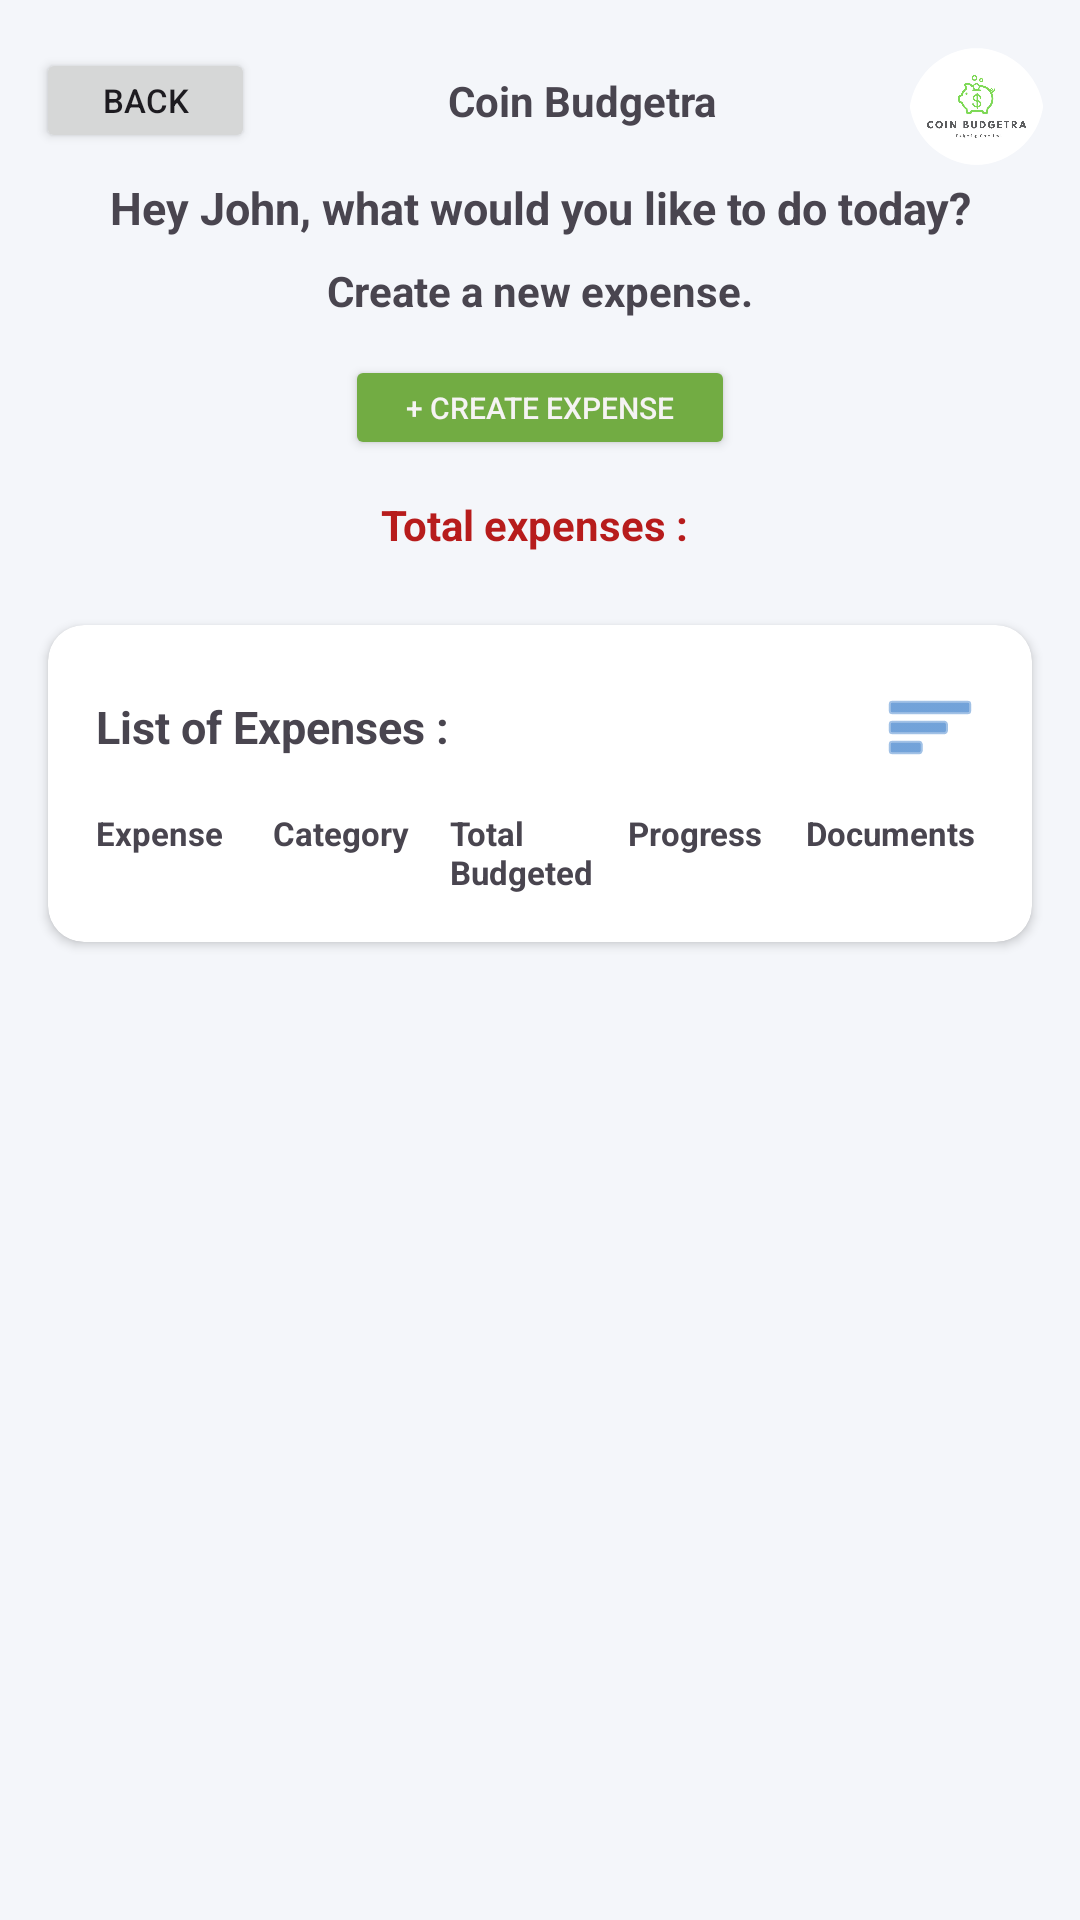

Icons on this 1080 × 1920 Android screen, each with its box as (x1, y1, x2, y2):
Filter expenses: (889, 701, 971, 754)
